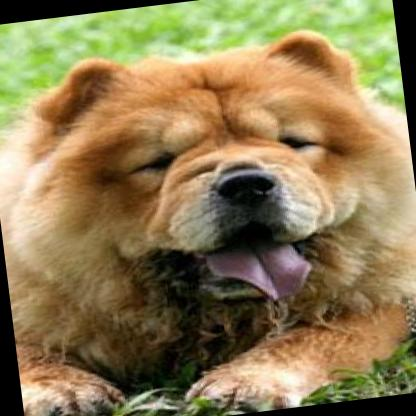chow: (0, 15, 416, 416)
